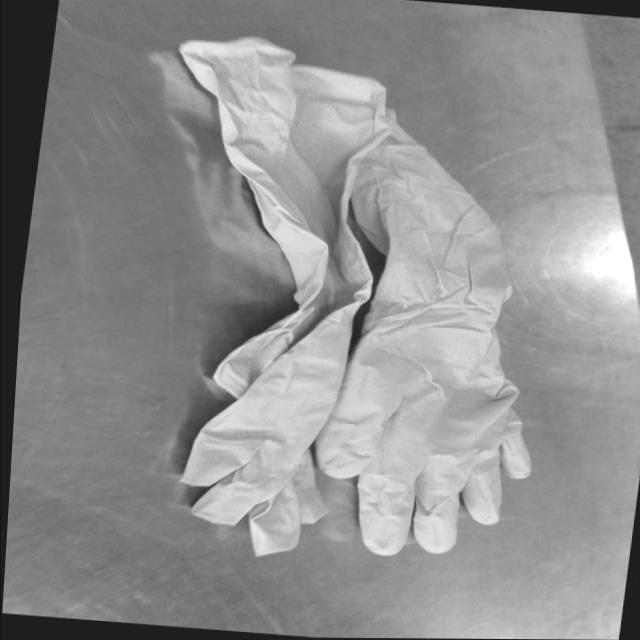General: (3, 2, 639, 639), (174, 35, 534, 561)
